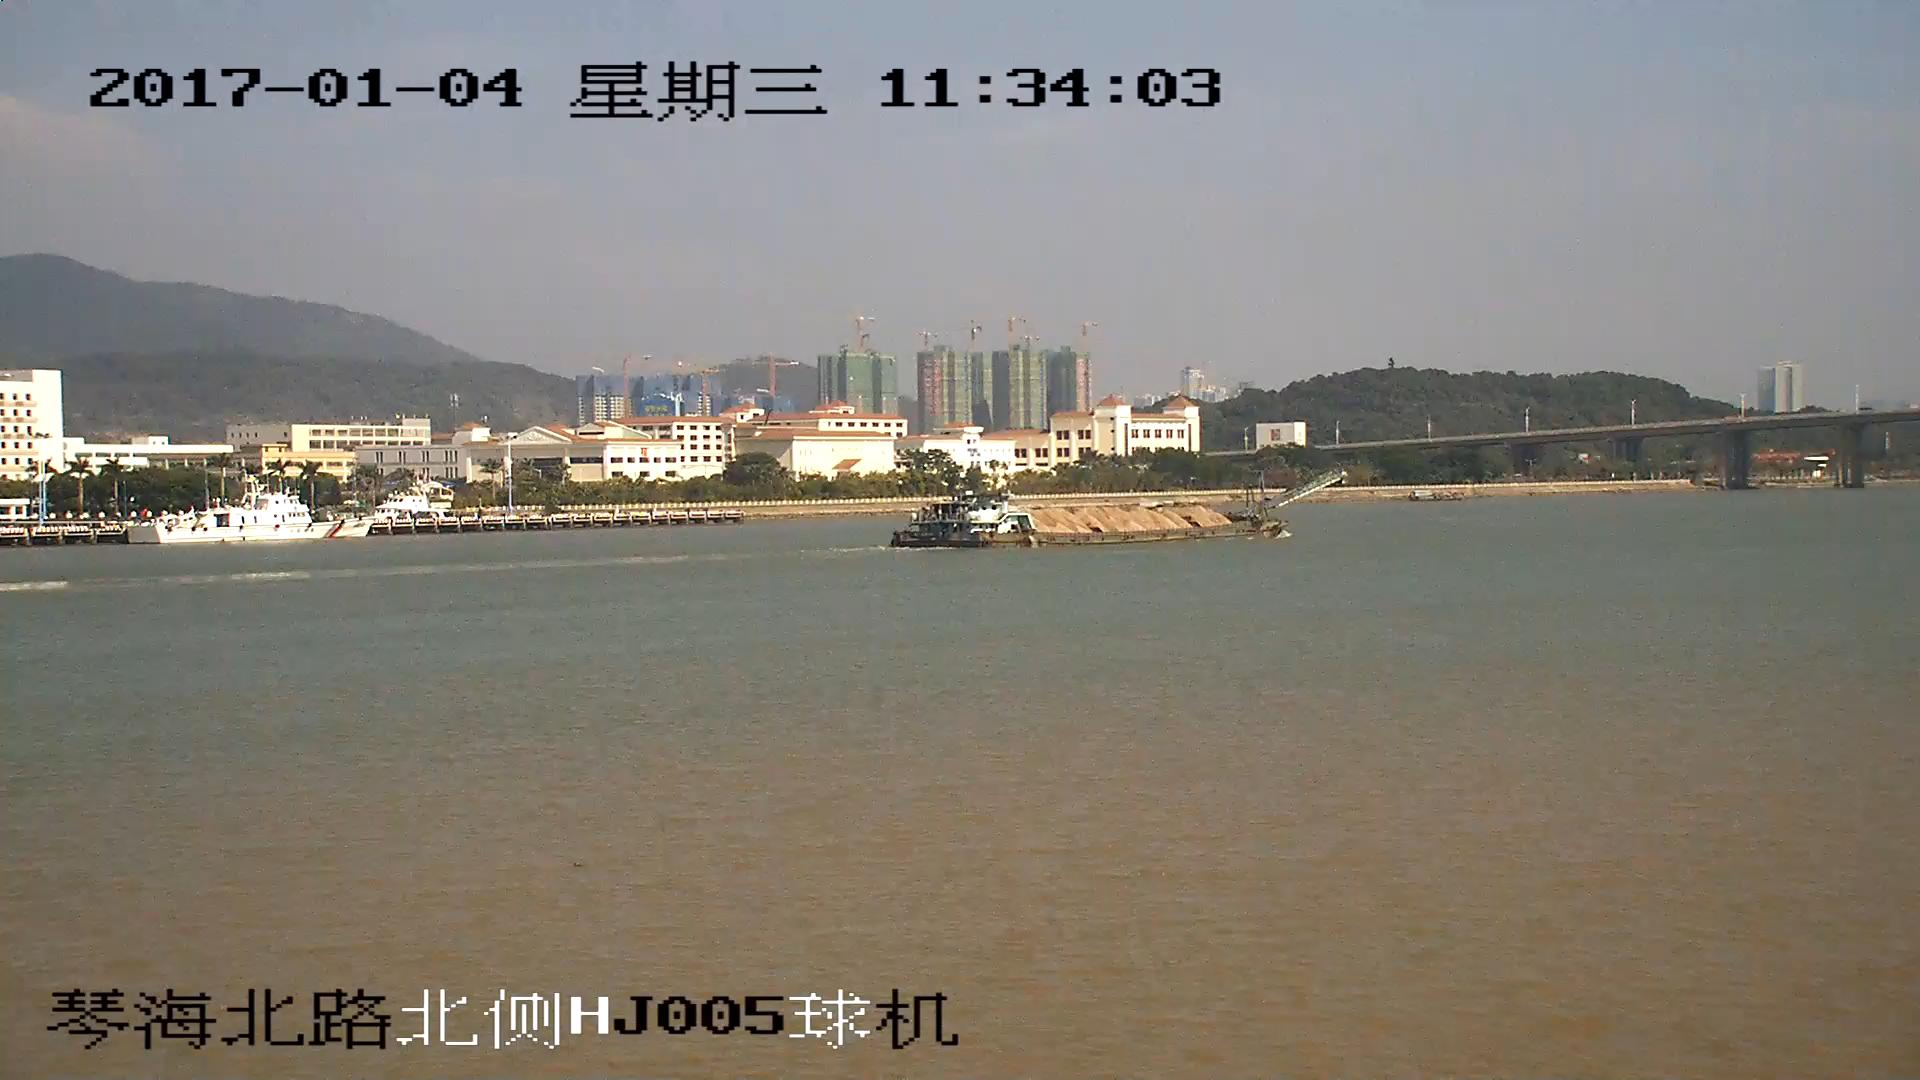ore carrier: (892, 474, 1340, 551)
